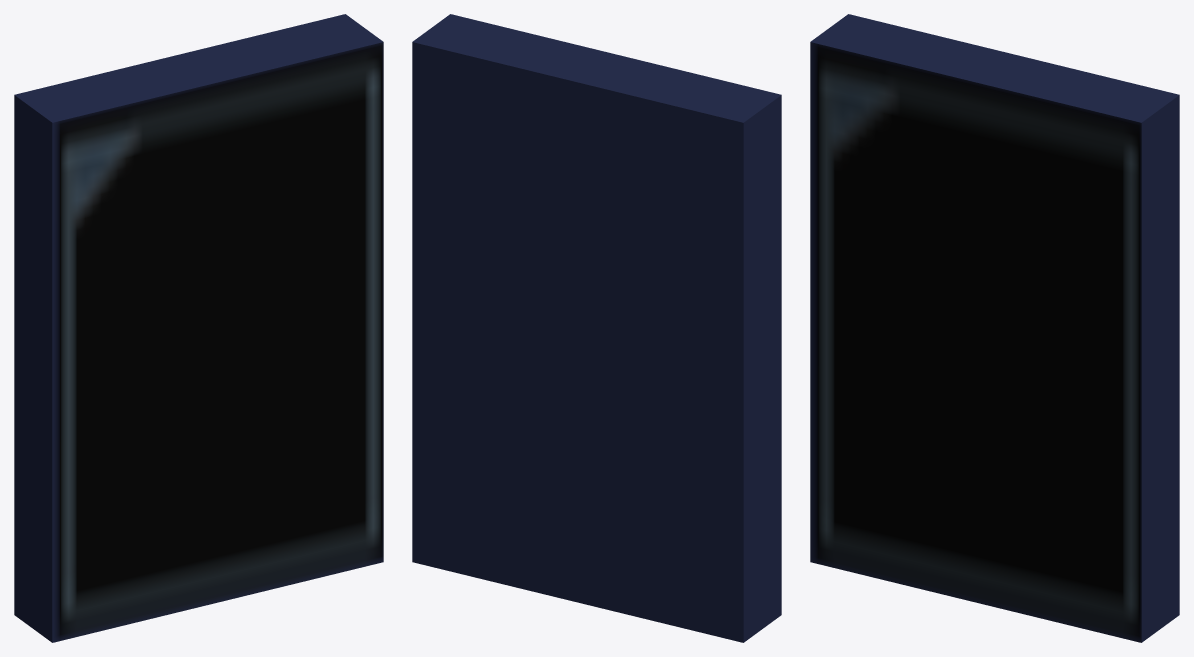
The model's file is InventorySlot.obj.
3 views of the same model, side by side, from view 1: azimuth 30°, elevation 25°; view 2: azimuth 150°, elevation 25°; view 3: azimuth 330°, elevation 25° (orthographic).
Visible parts, largest first — view 1: pCube1; view 2: pCube1; view 3: pCube1.
Part boxes in pixels (x1,y1,x2,y2): pCube1: (14,14,383,642); pCube1: (412,14,781,642); pCube1: (810,14,1179,642).
Bounding box in the file's own units: 5 × 7.5 × 1.
1 material, 1 textured.
